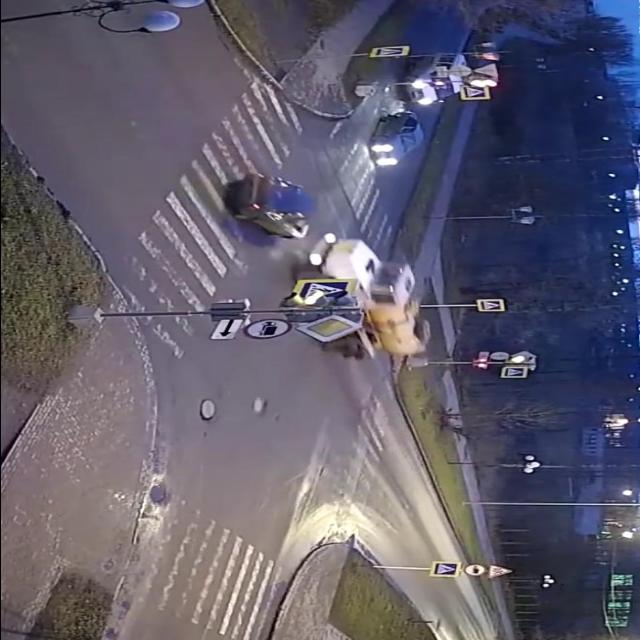non_accident: (212, 168, 436, 361), (355, 51, 481, 171)
